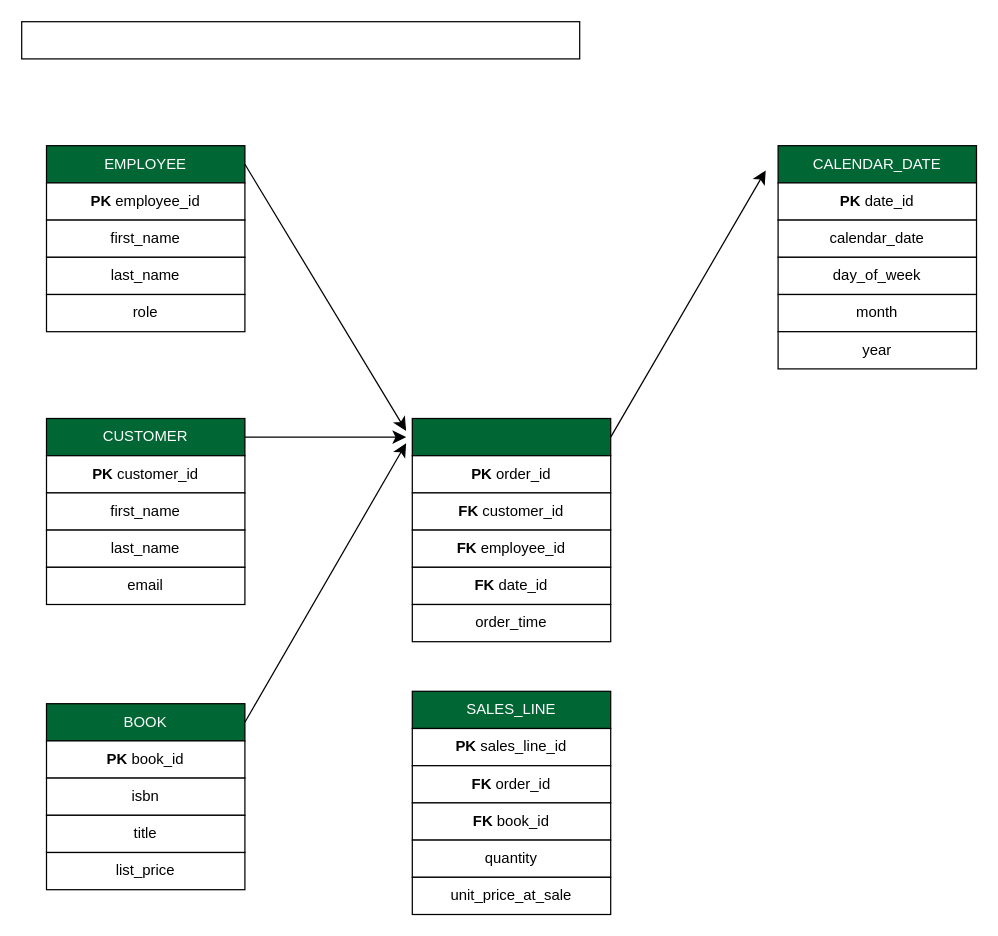
Some shapes in this 998 by 936 pixel diagram are drawn without their labels. Here are the shapes that lost their labels. From the top down, the centre of each, then its label:
(x=300, y=39): PK = primary key, FK = foreign key
(x=511, y=436): BOOK_ORDER
